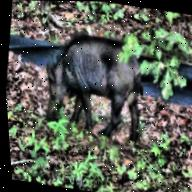boar: (30, 11, 159, 146)
